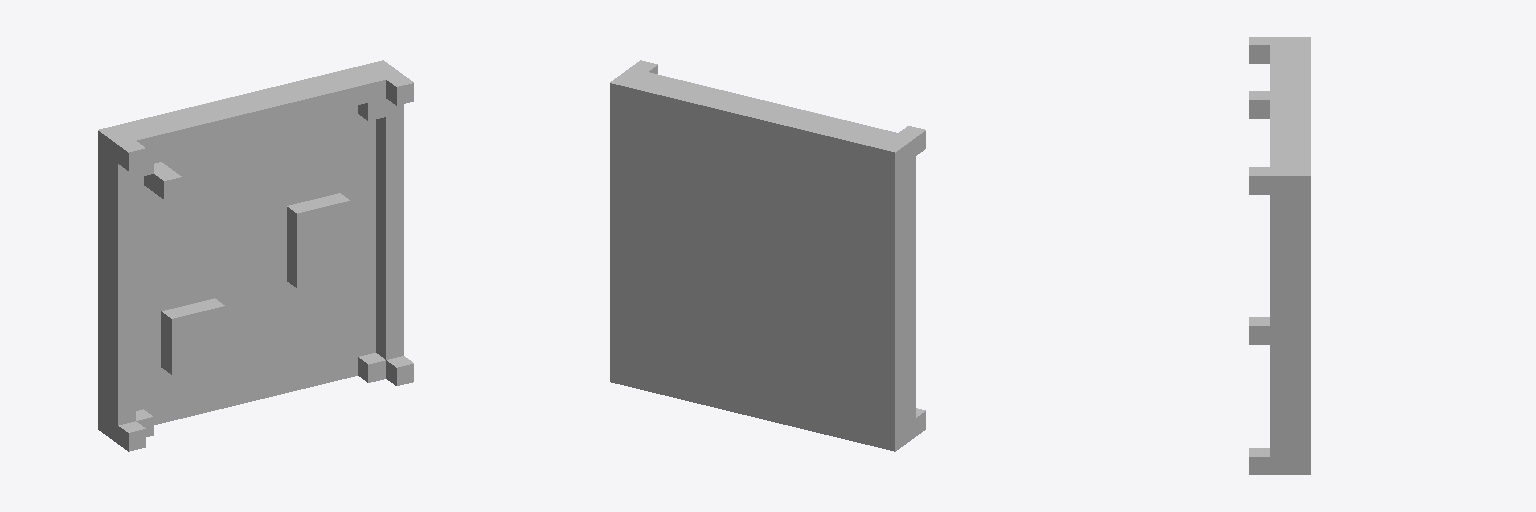
Rendered from wallFuse.obj.
The picture shows the model from 3 angles: view 1: azimuth 30°, elevation 25°; view 2: azimuth 150°, elevation 25°; view 3: azimuth 270°, elevation 25°; orthographic projection.
Parts seen in each view (by area): view 1: object 1; view 2: object 1; view 3: object 1.
Boxes of the visible parts, x1,y1,x2,y2 form: object 1: [98, 60, 413, 451]; object 1: [610, 60, 925, 451]; object 1: [1249, 37, 1310, 474].
Size of the model in its own units: 1.6 by 1.6 by 0.3.